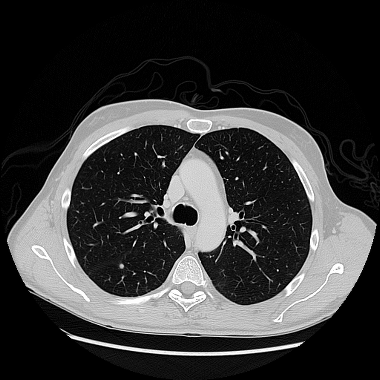nodule: (118, 263, 124, 269)
